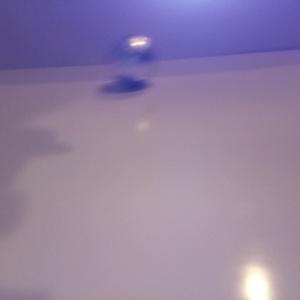alive_ball: (106, 34, 157, 84)
